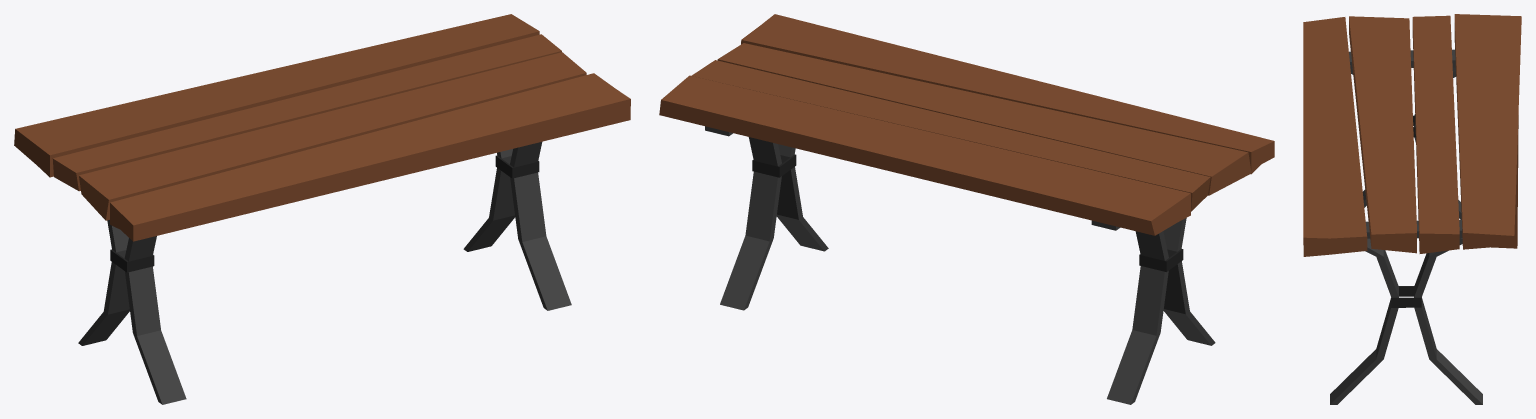
File: tablemetalwood01.gltf
The picture shows the model from 3 angles, left to right: view 1: azimuth 30°, elevation 25°; view 2: azimuth 150°, elevation 25°; view 3: azimuth 270°, elevation 25°; orthographic projection. The views are drawn at different scales.
Visible parts, largest first — view 1: Cube.001; view 2: Cube.001; view 3: Cube.001.
Boxes of the visible parts, x1,y1,x2,y2 form: Cube.001: (14,14,630,404); Cube.001: (659,14,1274,404); Cube.001: (1303,14,1521,404).
Bounding box in the file's own units: 2.08 × 0.8334 × 0.8671.
Materials: 1 (1 with a texture image).
